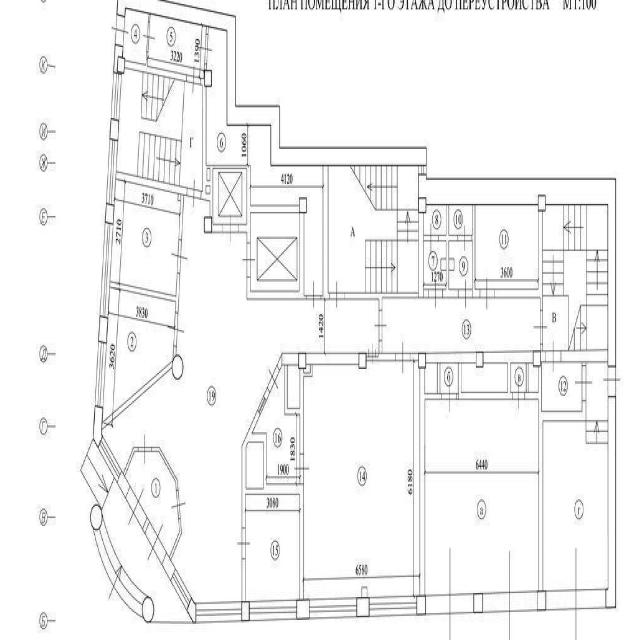Bathrooms: (449, 242, 472, 288), (424, 242, 445, 288), (424, 206, 446, 234), (450, 206, 472, 233)
Corridors: (103, 197, 379, 602), (208, 30, 322, 295), (102, 480, 192, 622), (383, 300, 539, 349), (126, 453, 178, 553), (149, 16, 206, 77), (542, 364, 581, 410), (123, 11, 148, 64), (440, 364, 458, 392), (511, 364, 525, 391)
Doors: (546, 545, 605, 639), (483, 549, 537, 640), (426, 546, 473, 640), (144, 521, 167, 566), (125, 485, 147, 532), (167, 311, 185, 348), (574, 366, 593, 401), (170, 239, 188, 274), (111, 14, 129, 45), (441, 380, 457, 414), (424, 219, 439, 255), (545, 340, 561, 373), (221, 213, 238, 244), (428, 277, 443, 312), (395, 340, 410, 375), (602, 368, 621, 395), (294, 454, 310, 485), (533, 310, 548, 343), (170, 490, 187, 519), (236, 527, 251, 559), (186, 65, 201, 97), (186, 176, 201, 208), (480, 276, 494, 310), (138, 433, 152, 466), (142, 21, 156, 53), (512, 379, 525, 413), (242, 242, 255, 276), (306, 280, 321, 309), (330, 279, 344, 310), (458, 279, 472, 310), (457, 224, 472, 252), (374, 310, 387, 341), (267, 364, 280, 394), (200, 34, 213, 64)
LBwalls: (418, 174, 617, 368), (605, 395, 616, 608), (93, 407, 103, 448), (162, 552, 175, 581), (117, 470, 130, 498), (112, 44, 124, 73), (98, 317, 109, 341), (186, 598, 196, 623), (357, 597, 369, 617), (296, 600, 308, 620), (109, 119, 119, 140), (536, 590, 546, 610), (473, 593, 483, 613), (105, 203, 115, 223), (417, 596, 426, 616), (142, 517, 150, 535), (242, 602, 249, 622)
Offices: (304, 362, 419, 598), (425, 400, 538, 594), (544, 422, 608, 589), (103, 289, 175, 420), (110, 181, 180, 295), (246, 497, 299, 600), (254, 367, 300, 482), (476, 205, 538, 289)
Stairs: (329, 167, 418, 292), (117, 70, 202, 190), (543, 205, 607, 349), (90, 504, 155, 623), (80, 439, 114, 510), (586, 363, 608, 444)
Walls: (116, 0, 427, 167), (410, 344, 587, 595), (277, 351, 395, 454), (241, 410, 304, 599), (344, 206, 428, 310), (102, 347, 177, 431), (494, 206, 543, 310), (116, 171, 187, 240), (239, 165, 299, 242), (110, 274, 181, 313), (210, 166, 247, 234), (458, 363, 512, 400), (125, 52, 187, 82), (439, 206, 457, 300), (321, 166, 330, 301), (247, 277, 299, 300), (152, 446, 179, 489), (201, 64, 207, 201), (472, 206, 479, 299), (425, 364, 441, 400), (561, 349, 608, 361), (169, 519, 183, 559), (123, 447, 138, 475), (299, 206, 303, 300), (241, 560, 246, 601), (526, 364, 529, 393), (378, 342, 382, 354), (148, 15, 151, 22), (582, 361, 586, 365), (206, 27, 208, 34)
Windows: (99, 221, 113, 317), (99, 437, 121, 482), (249, 601, 297, 621), (309, 598, 357, 618), (369, 596, 417, 616), (170, 568, 192, 610), (196, 603, 242, 623), (95, 342, 107, 408), (106, 139, 118, 205), (110, 72, 122, 121), (257, 395, 267, 416)
